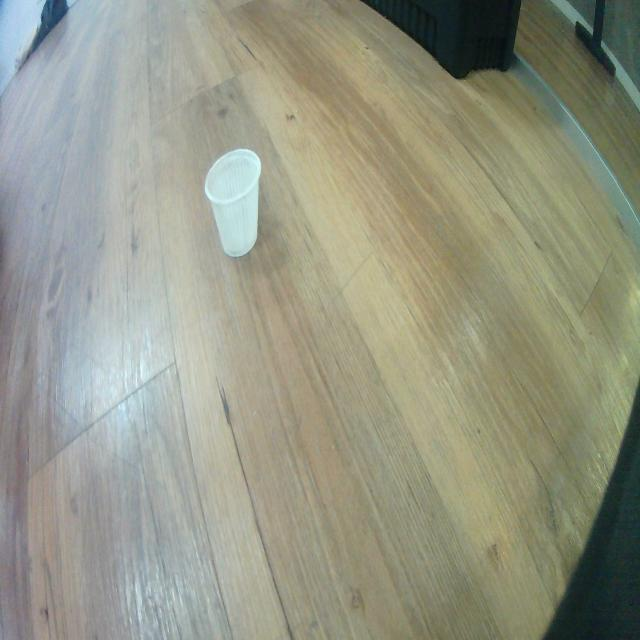planta: (204, 147, 262, 258)
